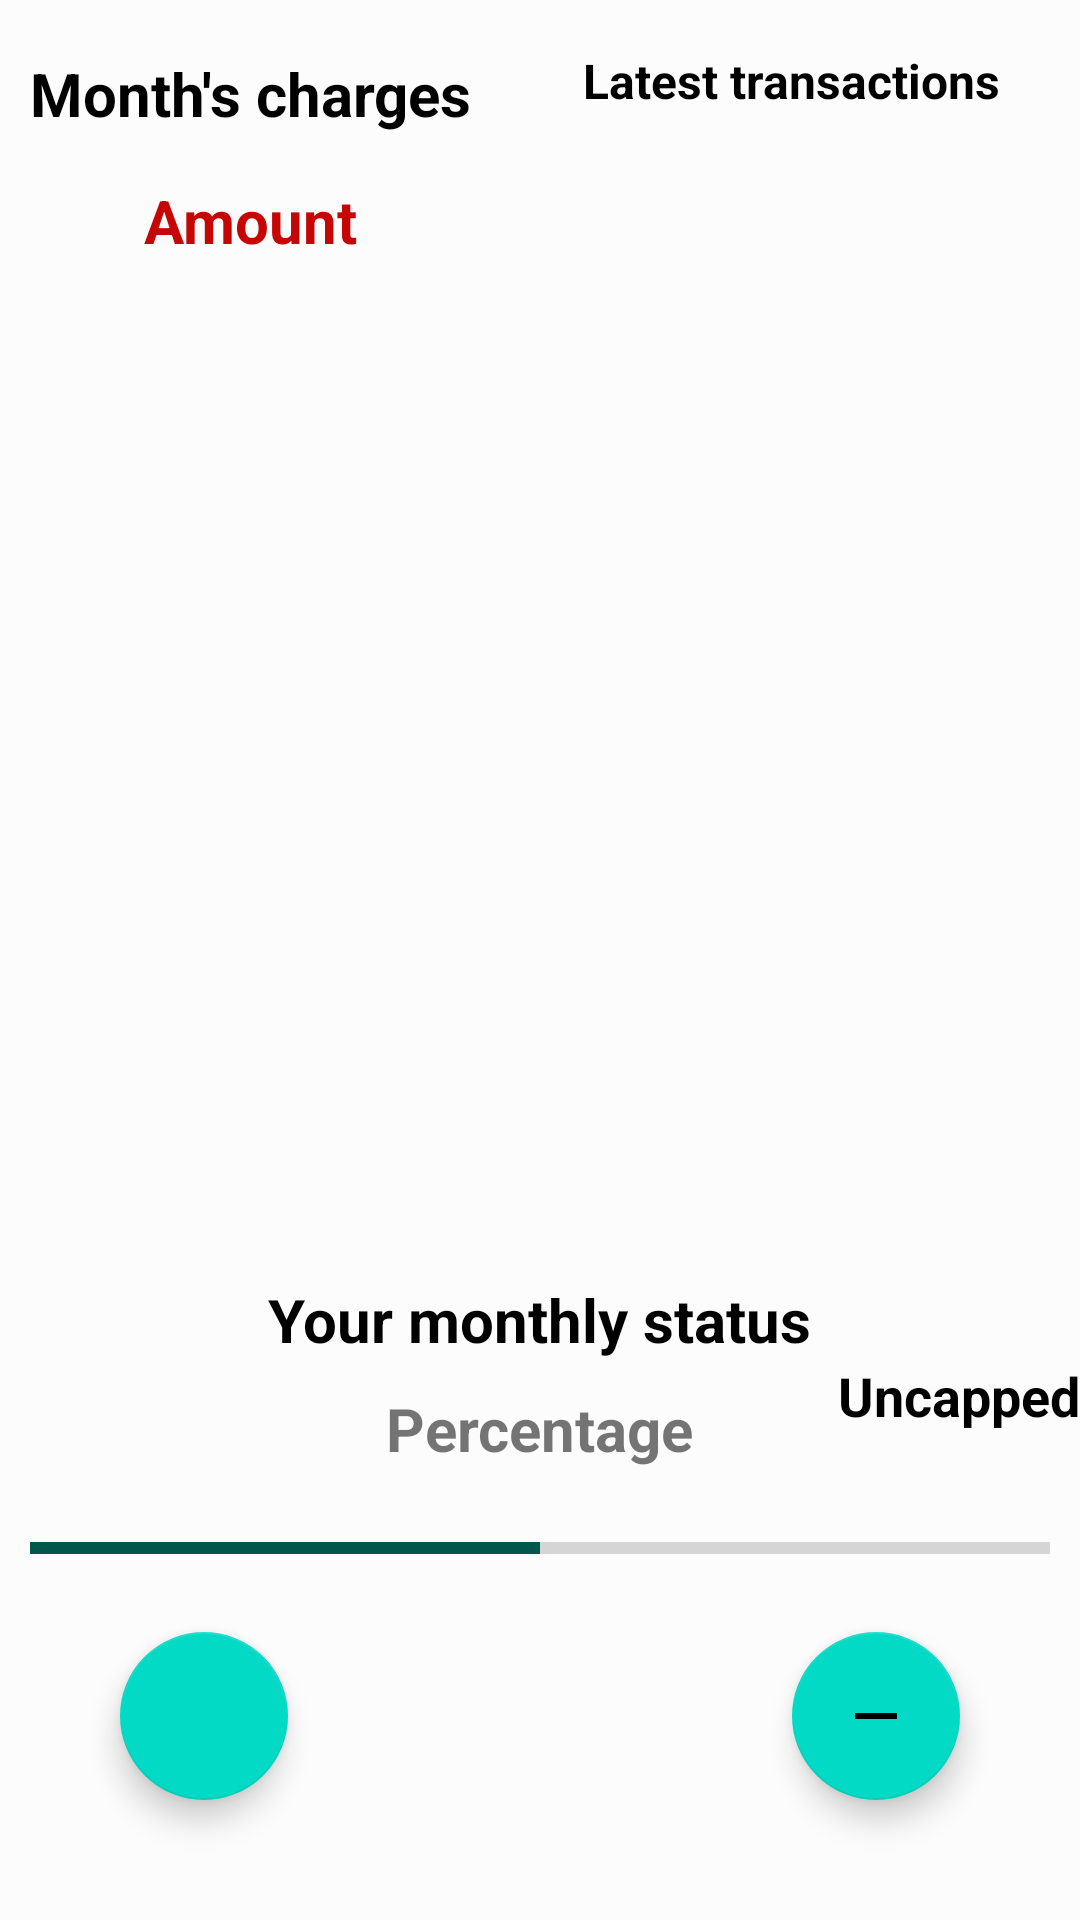

Icons on this 1080w x 1920h Android screen, each with the point to tap as (x=x, y=y):
remove: (x=876, y=1716)
